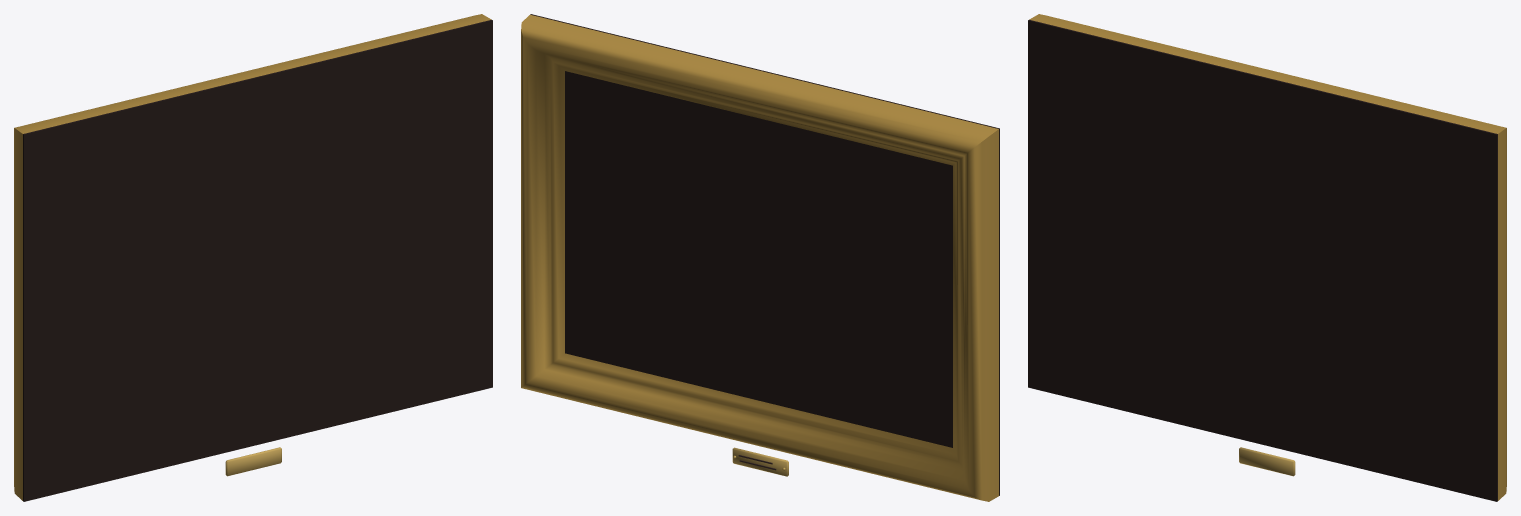
File: gilt_simple_land.glb
3 renders of one model, left to right at view 1: azimuth 30°, elevation 25°; view 2: azimuth 150°, elevation 25°; view 3: azimuth 330°, elevation 25°, orthographic.
Visible parts, largest first — view 1: gilt_simple_land; view 2: gilt_simple_land; view 3: gilt_simple_land.
Part boxes in pixels (box(x1,y1,x2,y2)): gilt_simple_land: box(14, 14, 492, 501); gilt_simple_land: box(521, 14, 999, 501); gilt_simple_land: box(1028, 14, 1506, 501).
Size of what is drawn, in the model's own units: 1.18 by 0.951 by 0.074.
